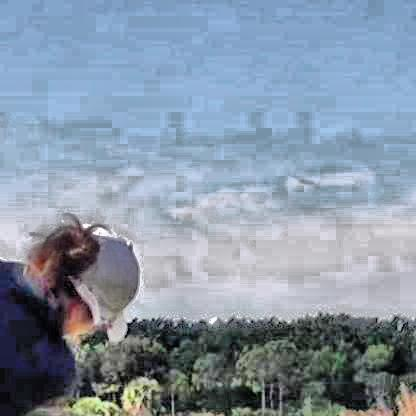golfball: (206, 314, 215, 325)
